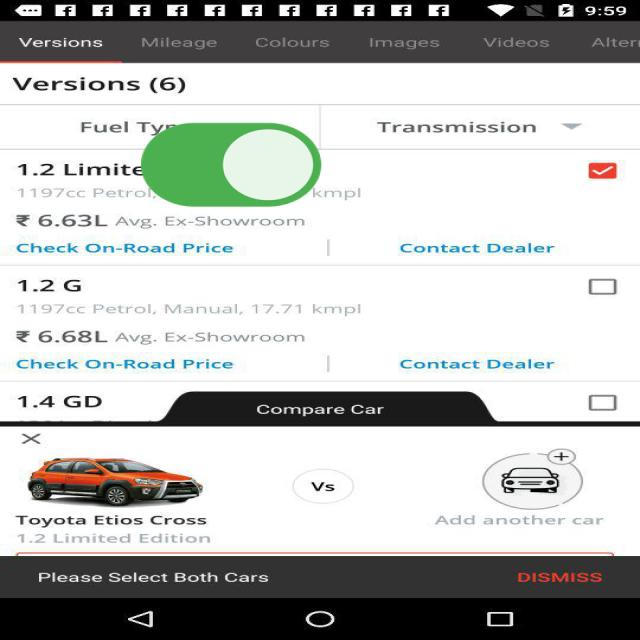social proof: (133, 91, 329, 245)
